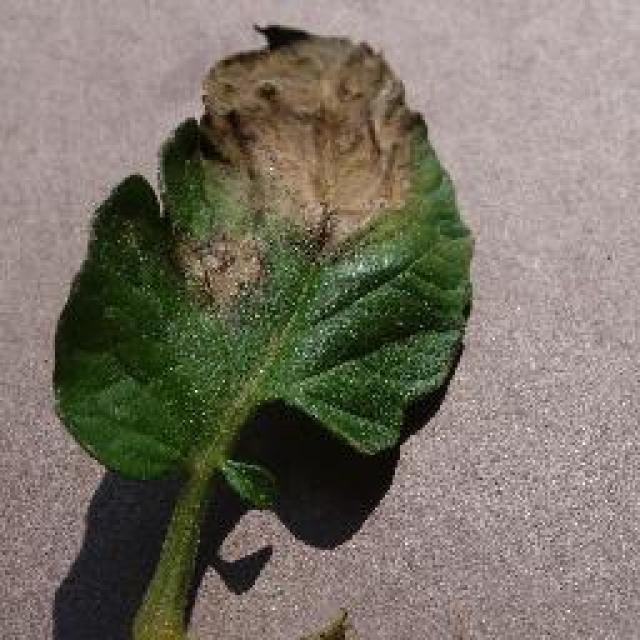Tomato late blight leaf: (51, 15, 476, 520)
